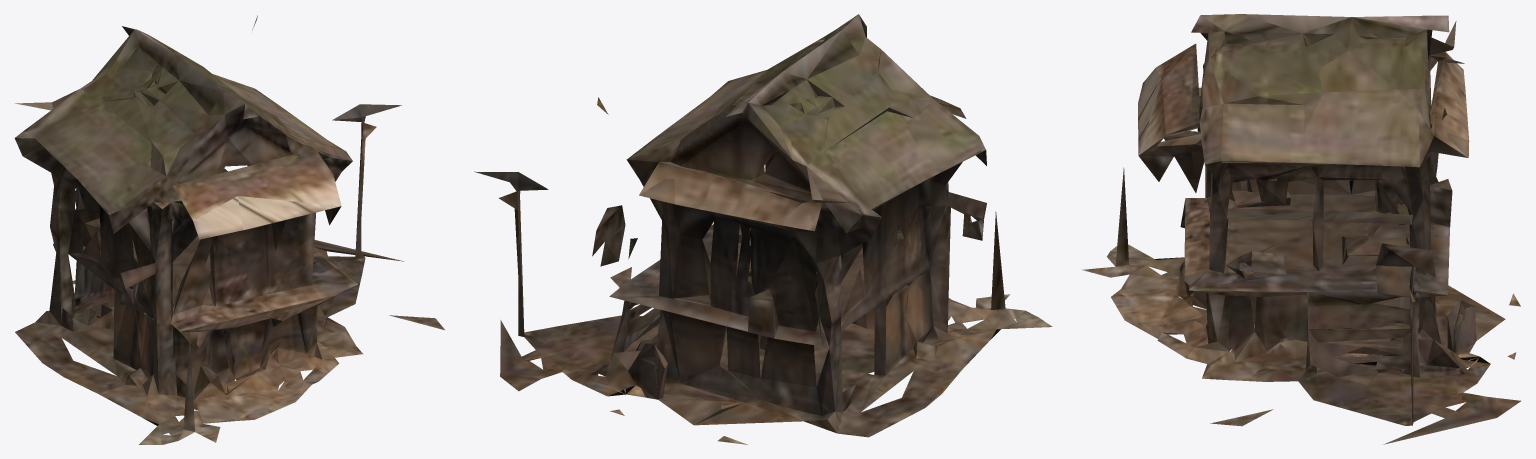
The model's file is hut_mossy_ruined_a_lod1.glb.
3 renders of one model, left to right at view 1: azimuth 30°, elevation 25°; view 2: azimuth 150°, elevation 25°; view 3: azimuth 270°, elevation 25°, orthographic. The views are drawn at different scales.
Visible parts, largest first — view 1: hut_mossy_ruined_a_lod1; view 2: hut_mossy_ruined_a_lod1; view 3: hut_mossy_ruined_a_lod1.
Boxes of the visible parts, box(x1,y1,x2,y2) form: hut_mossy_ruined_a_lod1: box(14, 15, 444, 444); hut_mossy_ruined_a_lod1: box(474, 14, 1052, 444); hut_mossy_ruined_a_lod1: box(1082, 14, 1520, 444).
Size of the model in its own units: 4.67 by 3.14 by 4.15.
Materials: 1 (1 with a texture image).
